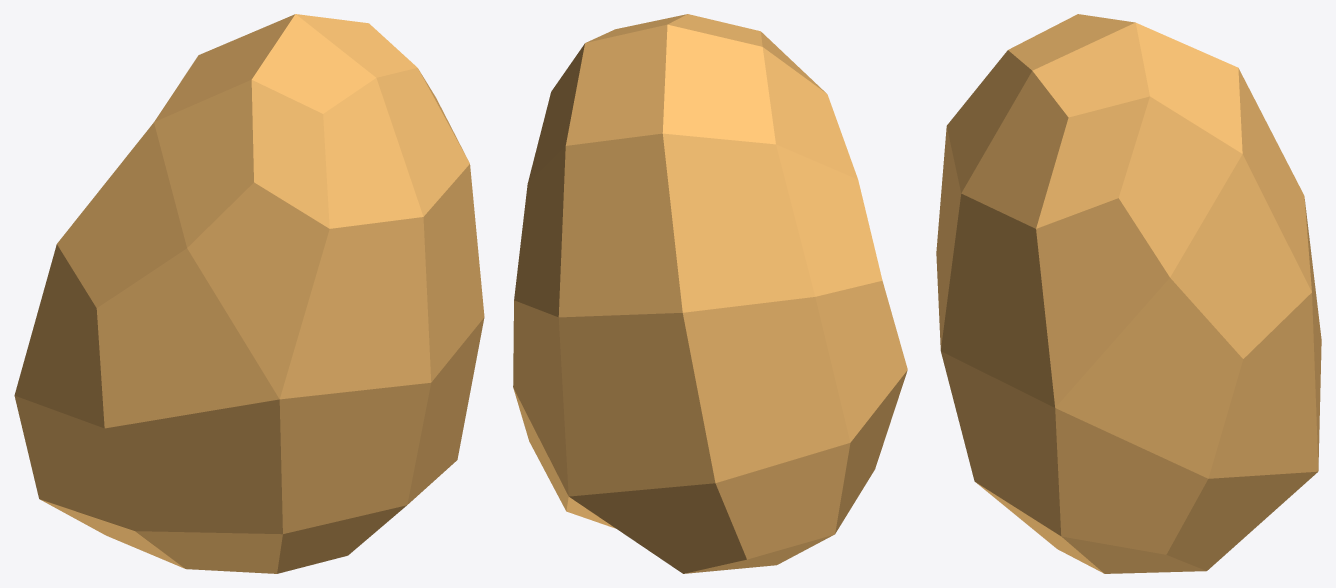
Rendered from Kentang.fbx.
The picture shows the model from 3 angles, left to right: view 1: azimuth 30°, elevation 25°; view 2: azimuth 150°, elevation 25°; view 3: azimuth 270°, elevation 25°; orthographic projection. The views are drawn at different scales.
Visible parts, largest first — view 1: Cube.009; view 2: Cube.009; view 3: Cube.009.
Part boxes in pixels (x1,y1,x2,y2): Cube.009: [14, 14, 484, 573]; Cube.009: [513, 14, 907, 573]; Cube.009: [936, 14, 1321, 573].
Size of the model in its own units: 3359 by 4453 by 2877.
